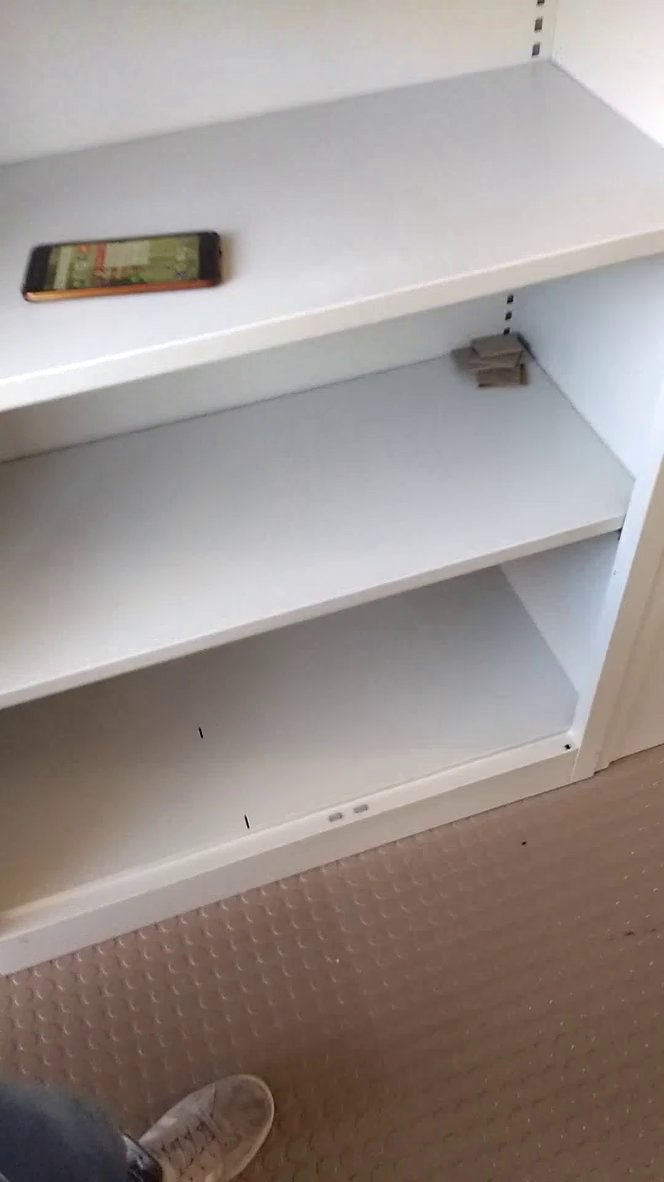phone: (7, 206, 241, 313)
